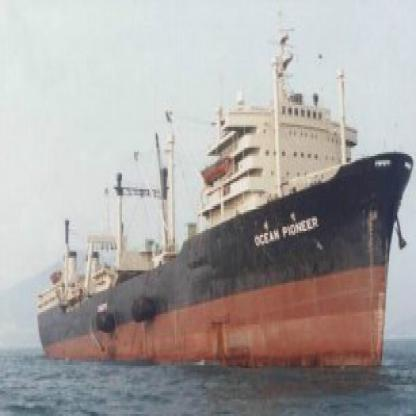fish-b: (26, 0, 414, 385)
